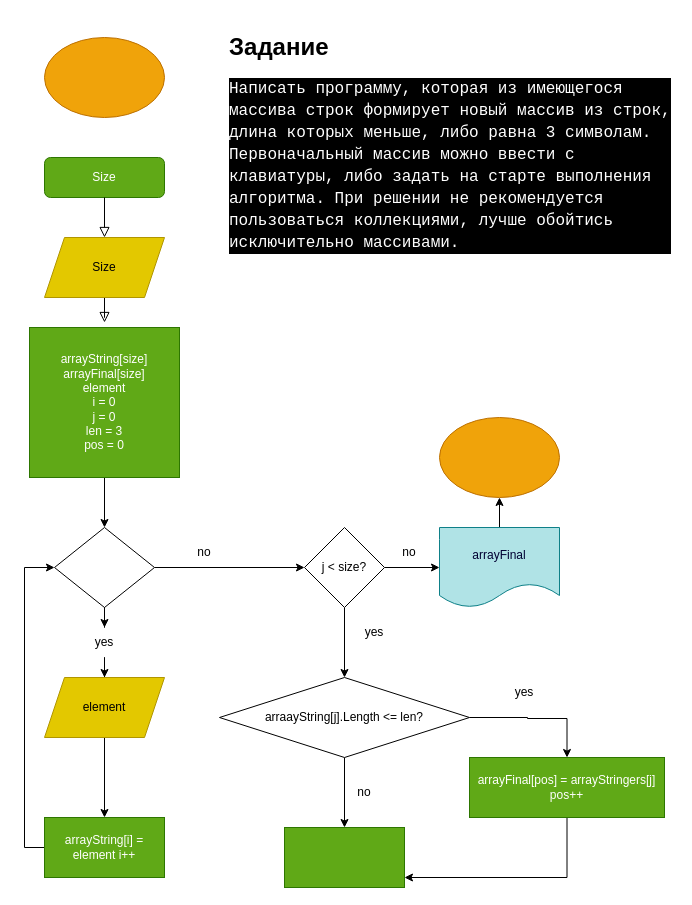
The diagram is 692 pixels wide and 905 high, and some of its shapes have lost their labels. The shapes that lost their labels are listed below. From the top down, each one's centre as x and y in pixels, then its label:
At (x=104, y=77): "Start".
At (x=499, y=457): "Finish".
At (x=104, y=567): "i < size?".
At (x=344, y=857): "j++".
